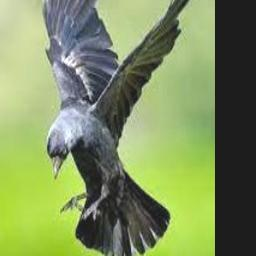Crow: (42, 0, 204, 256)
